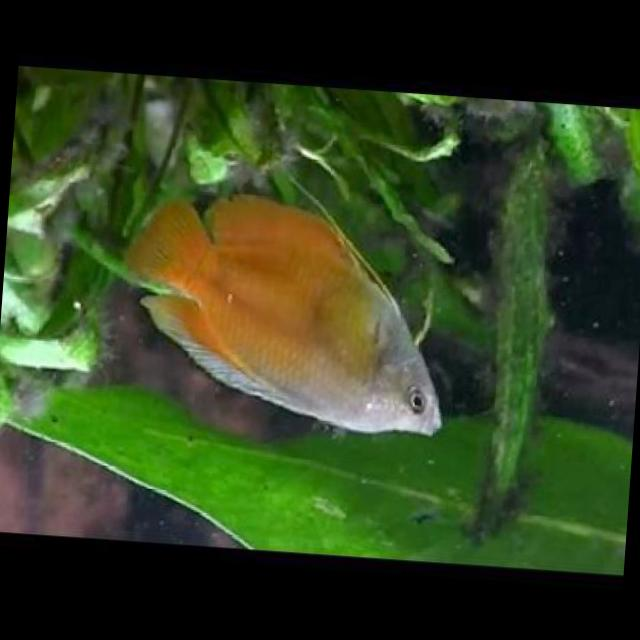Gourami: (114, 191, 468, 442)
